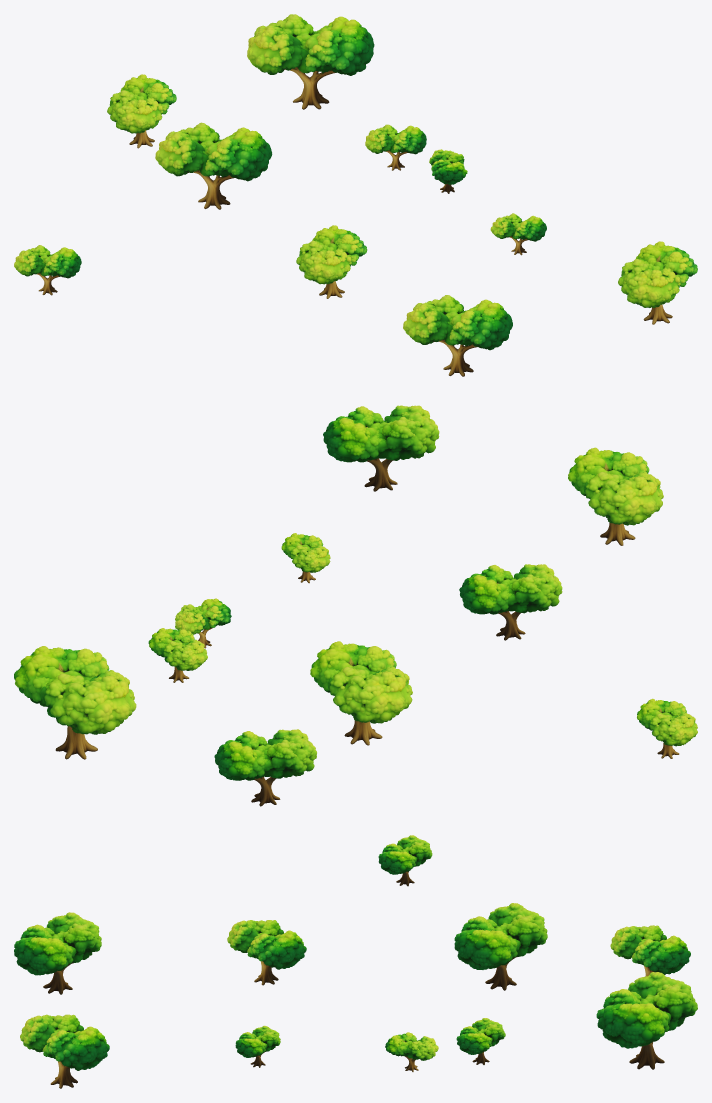
File: Trees.glb
3 views of the same model, one above another, from view 1: azimuth 30°, elevation 25°; view 2: azimuth 150°, elevation 25°; view 3: azimuth 270°, elevation 25° (orthographic). The views are drawn at different scales.
Parts seen in each view (by area): view 1: Object_5.008, Object_5.007, Object_5.004, Object_5.009, Object_5.001, Object_5.003, Object_5.010, Object_5.002, Object_5.005, Object_5.006; view 2: Object_5.008, Object_5.007, Object_5.009, Object_5.004, Object_5.001, Object_5.003, Object_5.010, Object_5.002, Object_5.006, Object_5.005; view 3: Object_5.008, Object_5.007, Object_5.004, Object_5.009, Object_5.001, Object_5.003, Object_5.010, Object_5.002, Object_5.006, Object_5.005.
Part boxes in pixels (<box>): Object_5.008: <box>247,14,374,109</box>; Object_5.007: <box>155,122,272,209</box>; Object_5.004: <box>403,295,512,376</box>; Object_5.009: <box>618,241,697,324</box>; Object_5.001: <box>296,225,367,298</box>; Object_5.003: <box>107,74,176,148</box>; Object_5.010: <box>14,245,81,295</box>; Object_5.002: <box>365,124,426,170</box>; Object_5.005: <box>490,213,546,255</box>; Object_5.006: <box>429,149,467,193</box>; Object_5.008: <box>14,646,136,759</box>; Object_5.007: <box>310,641,412,745</box>; Object_5.009: <box>323,405,439,491</box>; Object_5.004: <box>568,447,663,545</box>; Object_5.001: <box>459,564,562,640</box>; Object_5.003: <box>214,729,316,806</box>; Object_5.010: <box>637,698,697,758</box>; Object_5.002: <box>148,628,207,682</box>; Object_5.006: <box>175,598,231,648</box>; Object_5.005: <box>281,533,330,583</box>; Object_5.008: <box>596,972,697,1069</box>; Object_5.007: <box>454,903,547,990</box>; Object_5.004: <box>14,912,101,994</box>; Object_5.009: <box>20,1014,109,1088</box>; Object_5.001: <box>227,920,306,985</box>; Object_5.003: <box>610,925,690,976</box>; Object_5.010: <box>378,835,432,886</box>; Object_5.002: <box>456,1018,505,1064</box>; Object_5.006: <box>385,1032,438,1071</box>; Object_5.005: <box>235,1025,280,1067</box>.
Bounding box in the file's own units: 274 × 42.78 × 343.
1 material, 1 textured.
